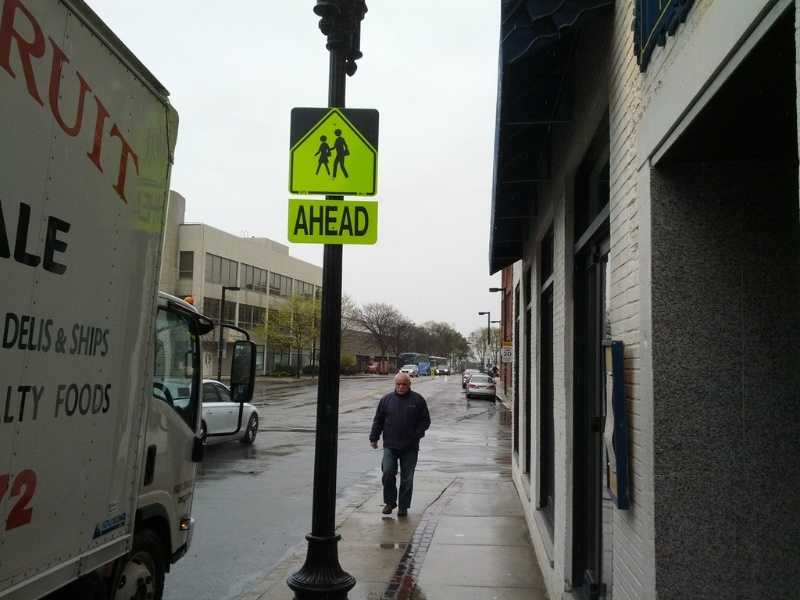school_ahead: (280, 105, 403, 262)
